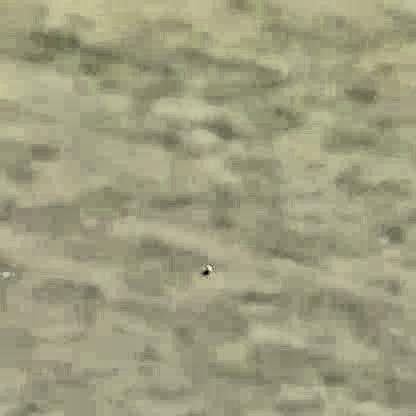golfball: (202, 262, 212, 272)
